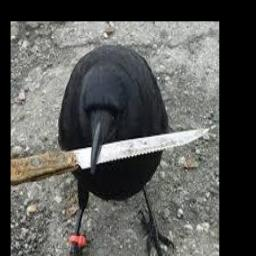Crow: (54, 44, 176, 256)
